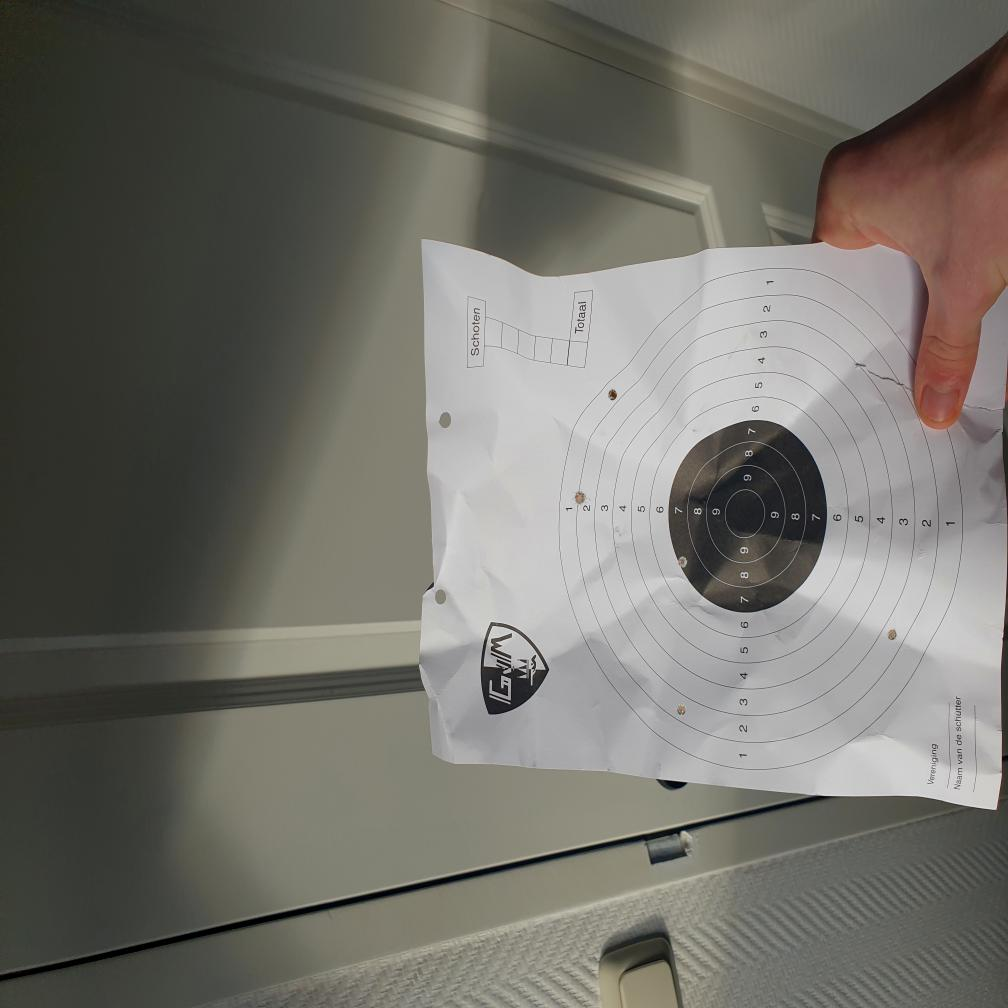1: (606, 387, 618, 402)
2: (572, 490, 588, 506), (886, 628, 898, 642), (676, 703, 687, 718)
7: (678, 555, 688, 568)
Target: (558, 262, 964, 770)
black_contour: (668, 420, 828, 612)
